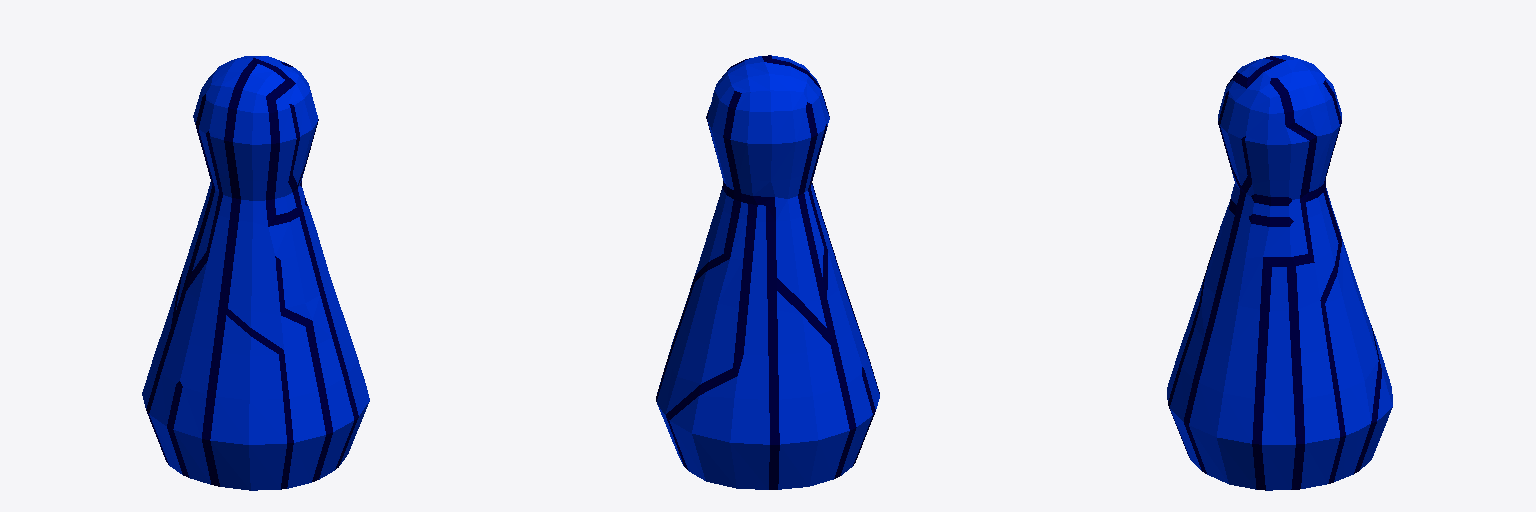
The model's file is chipnavyblue.obj.
3 renders of one model, left to right at view 1: azimuth 30°, elevation 25°; view 2: azimuth 150°, elevation 25°; view 3: azimuth 270°, elevation 25°, orthographic.
Parts seen in each view (by area): view 1: Куб.006_Куб.008; view 2: Куб.006_Куб.008; view 3: Куб.006_Куб.008.
Part boxes in pixels (left/top/right/bottom): Куб.006_Куб.008: left=142, top=56, right=369, bottom=490; Куб.006_Куб.008: left=656, top=55, right=879, bottom=489; Куб.006_Куб.008: left=1167, top=55, right=1392, bottom=490.
Bounding box in the file's own units: 0.2371 × 0.4544 × 0.2374.